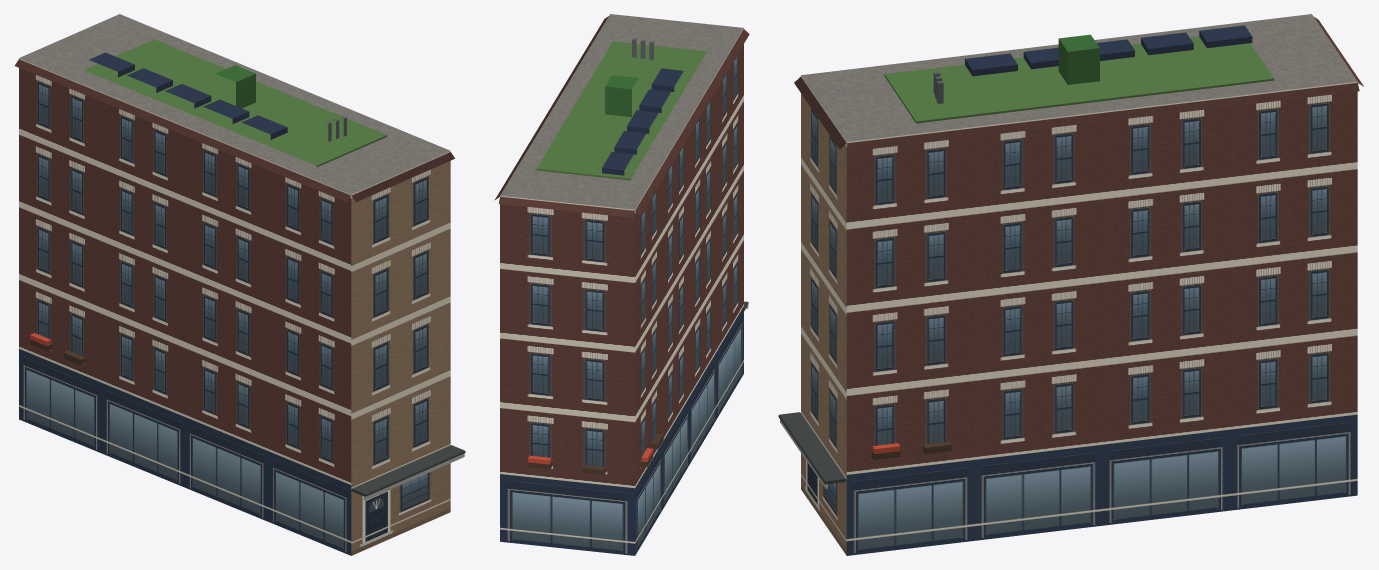
The picture shows the model from 3 angles, left to right: view 1: azimuth 30°, elevation 25°; view 2: azimuth 150°, elevation 25°; view 3: azimuth 270°, elevation 25°; orthographic projection. The views are drawn at different scales.
Visible parts, largest first — view 1: jan-evertsen-procedural-0363100012118917; view 2: jan-evertsen-procedural-0363100012118917; view 3: jan-evertsen-procedural-0363100012118917.
Boxes of the visible parts, box(x1,y1,x2,y2) form: jan-evertsen-procedural-0363100012118917: box(14, 14, 465, 555); jan-evertsen-procedural-0363100012118917: box(494, 14, 749, 555); jan-evertsen-procedural-0363100012118917: box(778, 14, 1363, 555).
Size of the model in its own units: 11.44 by 17.9 by 21.18.
42 materials, 42 textured.
